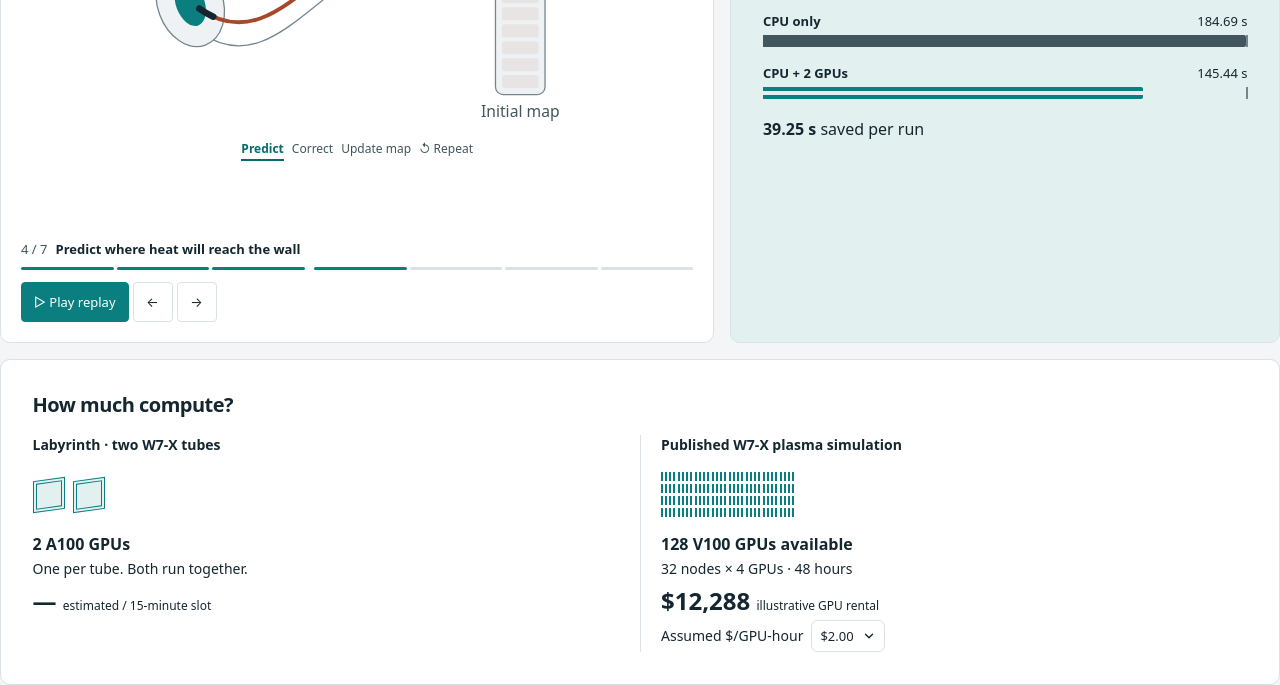
Test: the assumed hourly rate menu selects one rate and updates the rental estimate
(page scrolled)
Expected: the text "$12,288" is shown, [661, 584, 879, 618]
Click the button named "Assumed $/GPU-hour $2.00" at (848,636), box [811, 620, 885, 652]
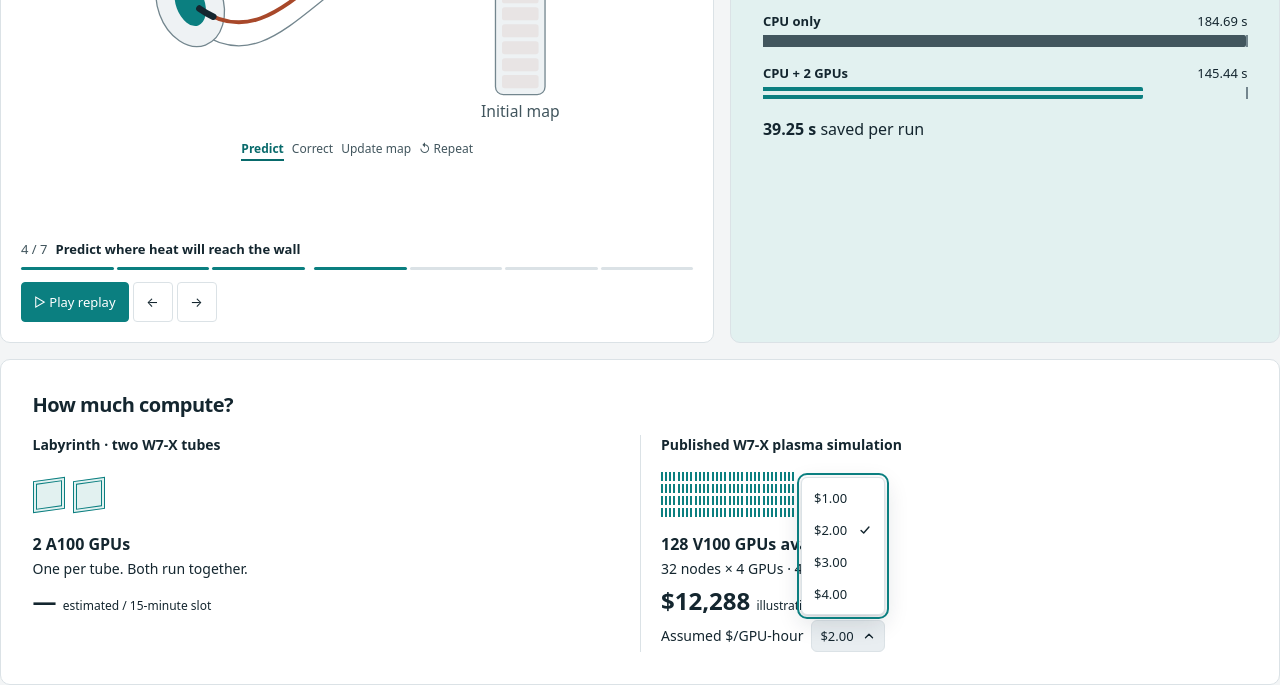
Click the menu item "$4.00" at (831,594), box [814, 585, 847, 603]
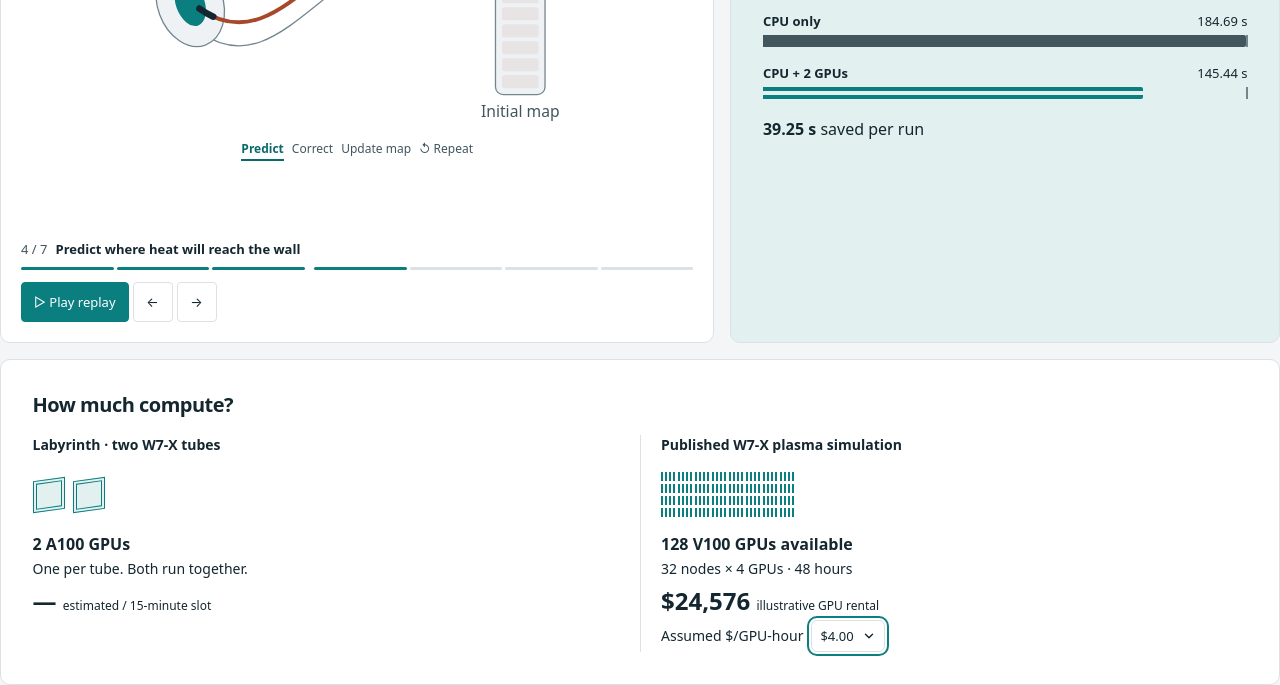
Expected: the text "$24,576" is shown, [661, 584, 879, 618]
